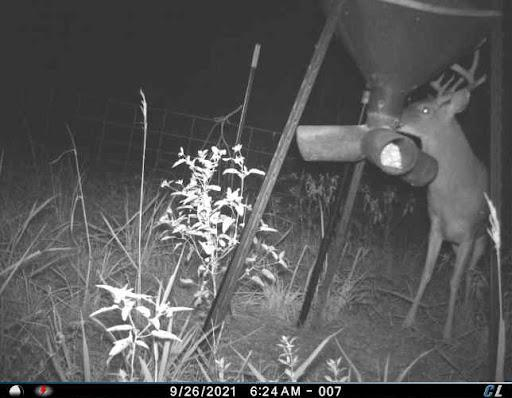Deer: (396, 45, 497, 355)
